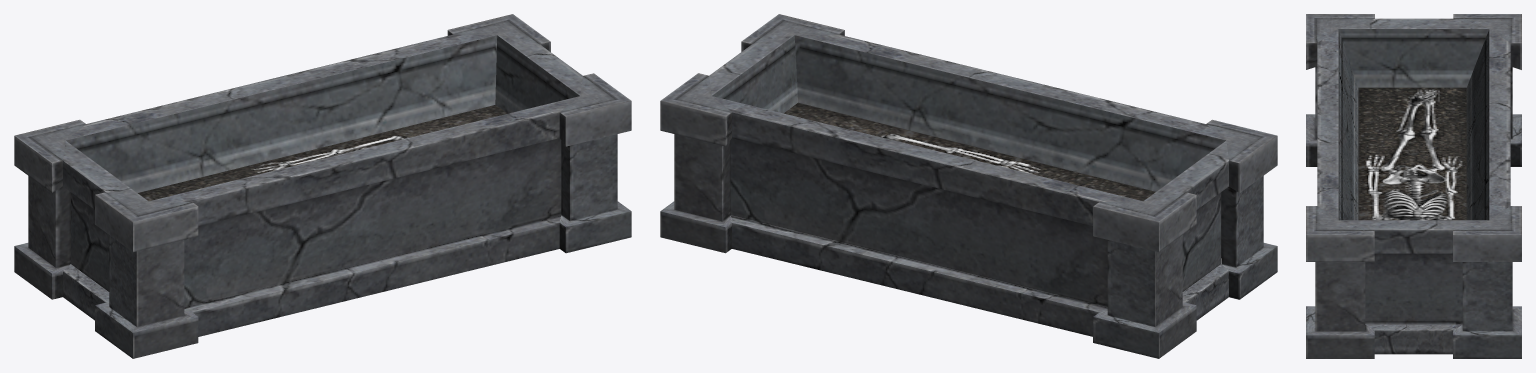
File: GY_guancai001.fbx
3 renders of one model, left to right at view 1: azimuth 30°, elevation 25°; view 2: azimuth 150°, elevation 25°; view 3: azimuth 270°, elevation 25°, orthographic. The views are drawn at different scales.
Visible parts, largest first — view 1: GY_guancai001; view 2: GY_guancai001; view 3: GY_guancai001.
Boxes of the visible parts, x1,y1,x2,y2 form: GY_guancai001: (14, 14, 631, 358); GY_guancai001: (660, 14, 1277, 358); GY_guancai001: (1306, 14, 1521, 358).
Size of the model in its own units: 255 by 66.79 by 105.
